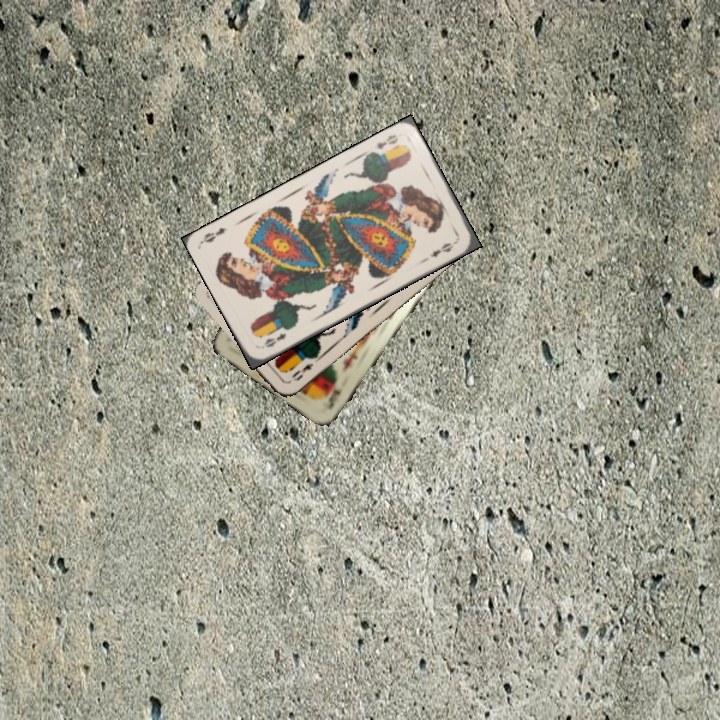EO: (287, 359, 316, 384), (370, 130, 401, 152), (260, 329, 289, 350)
SK: (326, 384, 345, 412)
